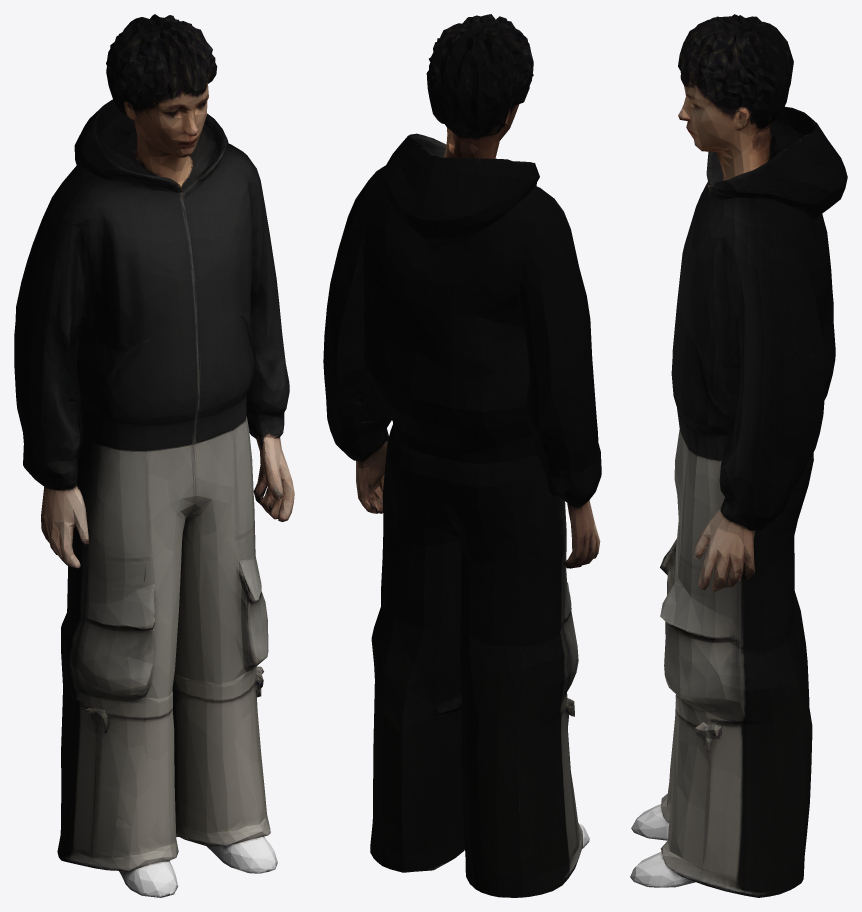
The model's file is male-avatar.glb.
The picture shows the model from 3 angles, left to right: view 1: azimuth 30°, elevation 25°; view 2: azimuth 150°, elevation 25°; view 3: azimuth 270°, elevation 25°; orthographic projection.
Visible parts, largest first — view 1: world; view 2: world; view 3: world.
Boxes of the visible parts, bbox=[...] form: world: bbox=[14, 14, 294, 897]; world: bbox=[323, 14, 601, 897]; world: bbox=[630, 14, 847, 897].
Bounding box in the file's own units: 0.3247 × 1 × 0.238.
Materials: 1 (1 with a texture image).
